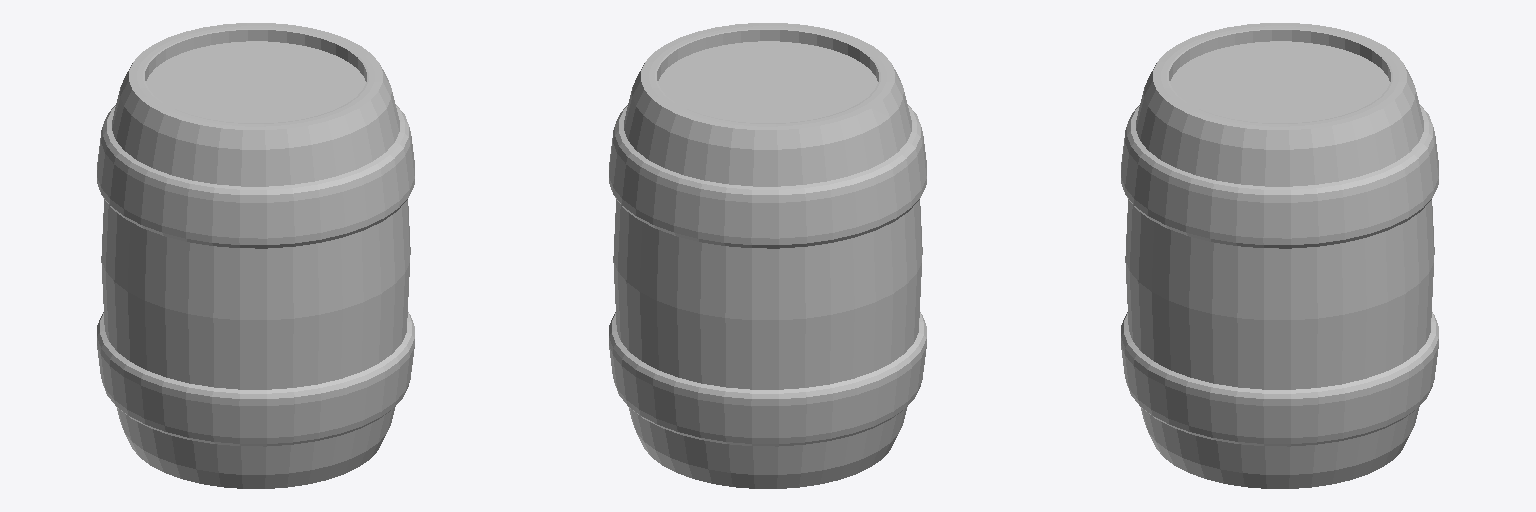
File: barril.obj
3 views of the same model, side by side, from view 1: azimuth 30°, elevation 25°; view 2: azimuth 150°, elevation 25°; view 3: azimuth 270°, elevation 25° (orthographic).
Parts seen in each view (by area): view 1: pasted__pasted__Barrel pasted__group4 group5; view 2: pasted__pasted__Barrel pasted__group4 group5; view 3: pasted__pasted__Barrel pasted__group4 group5.
Boxes of the visible parts, x1=… form: pasted__pasted__Barrel pasted__group4 group5: x1=97, y1=23, x2=414, y2=488; pasted__pasted__Barrel pasted__group4 group5: x1=609, y1=23, x2=926, y2=488; pasted__pasted__Barrel pasted__group4 group5: x1=1121, y1=23, x2=1438, y2=488.
Bounding box in the file's own units: 1.02 × 1.27 × 1.02.